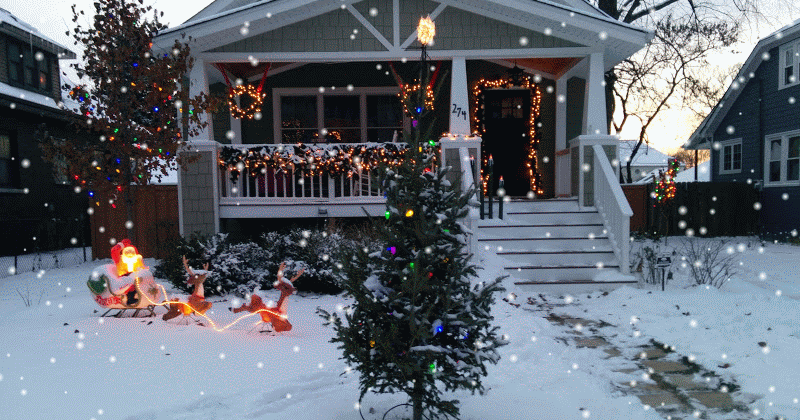tree: (332, 88, 502, 418), (44, 3, 202, 271)
